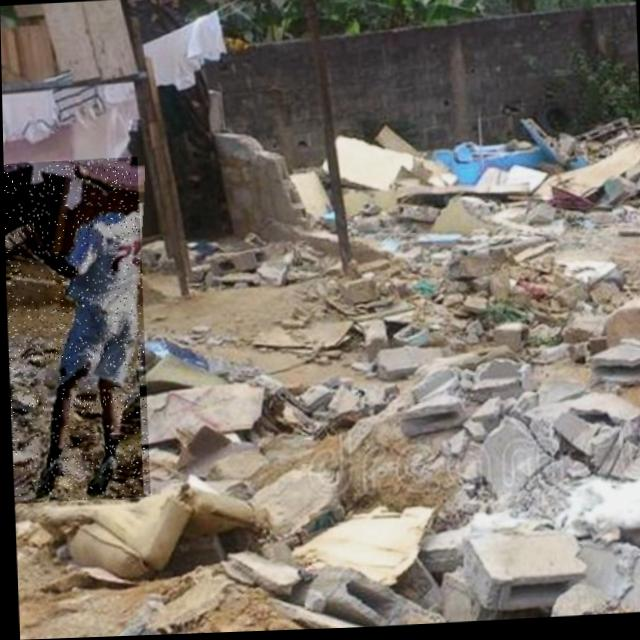Person in Rubble: (3, 157, 148, 503)
